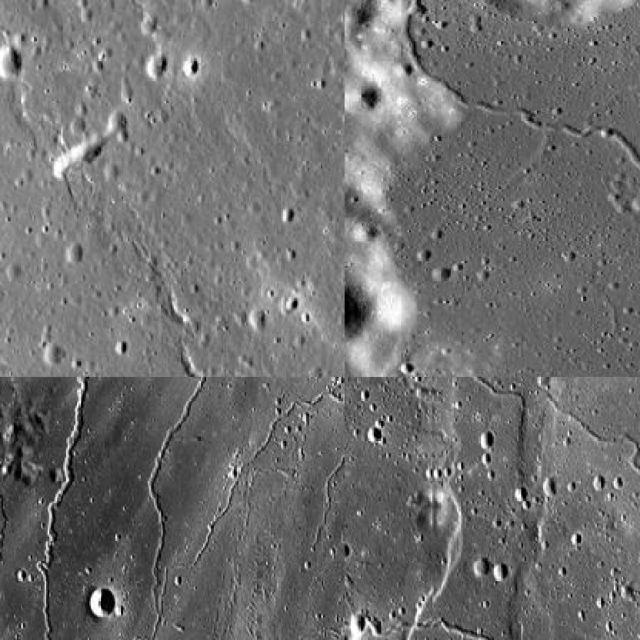rille: (0, 377, 343, 638), (400, 0, 638, 374), (146, 377, 263, 617), (0, 376, 92, 638), (344, 377, 528, 443), (534, 383, 638, 499), (345, 610, 509, 638)
